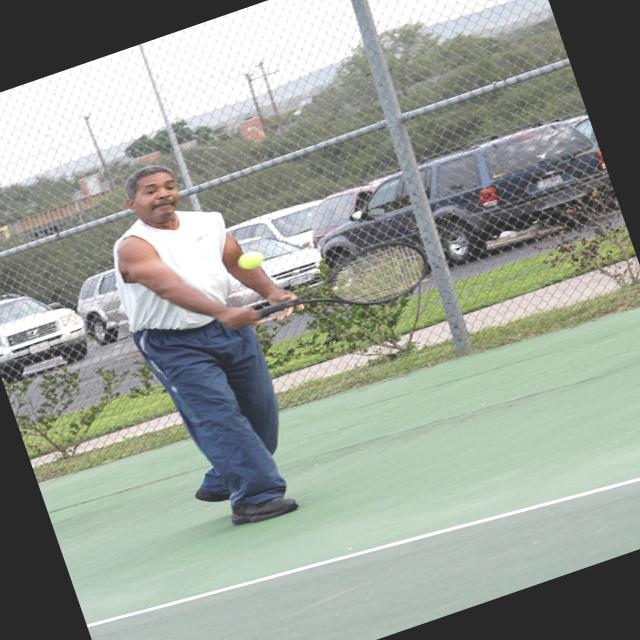Vehicle: (299, 108, 619, 310), (0, 271, 98, 389), (208, 220, 326, 316), (230, 199, 326, 270), (66, 268, 134, 350), (300, 179, 395, 237), (572, 112, 620, 215)
